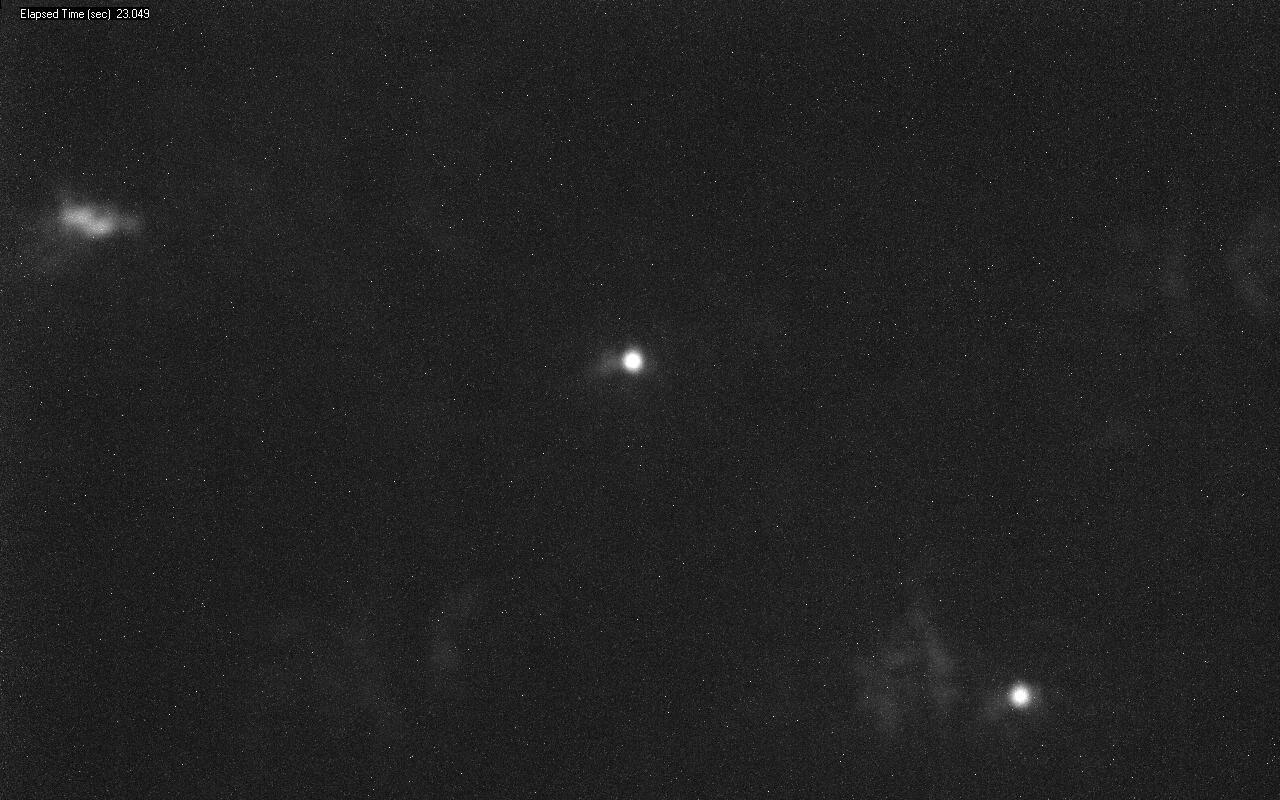Bead: (621, 350, 643, 372), (1010, 685, 1029, 706)
